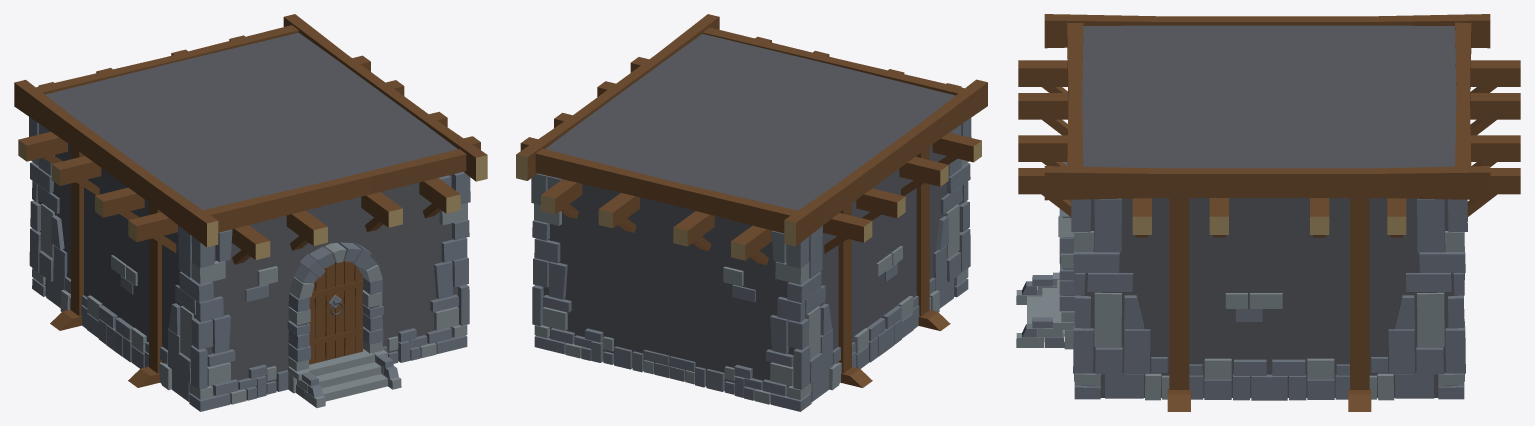
Rendered from house_4.glb.
3 renders of one model, left to right at view 1: azimuth 30°, elevation 25°; view 2: azimuth 150°, elevation 25°; view 3: azimuth 270°, elevation 25°, orthographic. The views are drawn at different scales.
Parts seen in each view (by area): view 1: House_4; view 2: House_4; view 3: House_4.
Boxes of the visible parts, bbox=[...] form: House_4: bbox=[14, 14, 487, 411]; House_4: bbox=[516, 14, 987, 411]; House_4: bbox=[1016, 14, 1520, 411].
Bounding box in the file's own units: 1.94 × 1.07 × 2.12.
